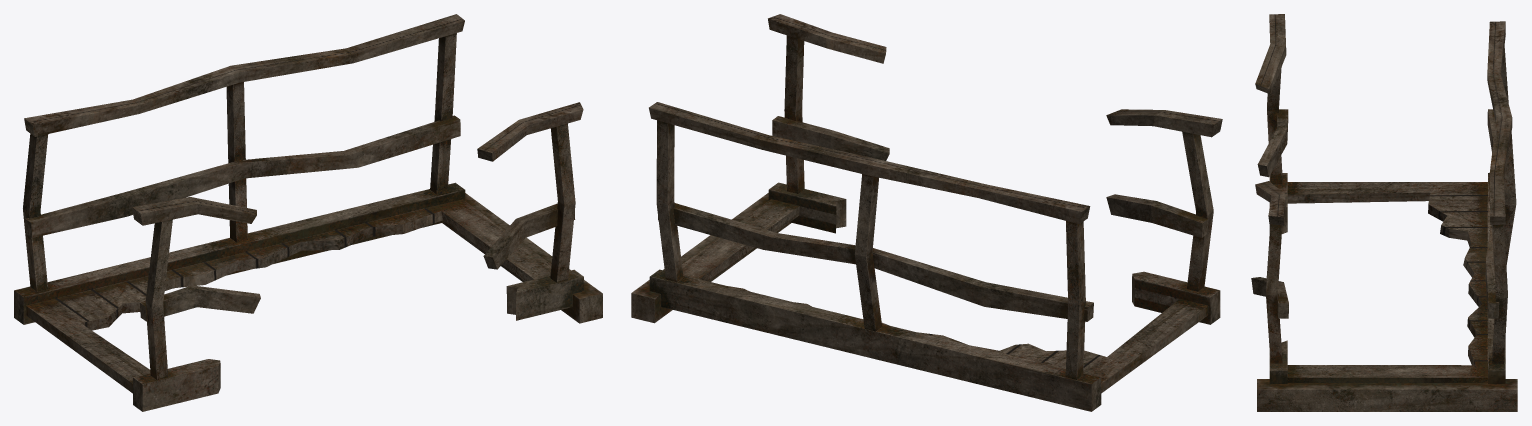
The model's file is forest_wooden_path-bridge_tile_broken_1.glb.
The picture shows the model from 3 angles, left to right: view 1: azimuth 30°, elevation 25°; view 2: azimuth 150°, elevation 25°; view 3: azimuth 270°, elevation 25°; orthographic projection. The views are drawn at different scales.
Visible parts, largest first — view 1: Cube.006; view 2: Cube.006; view 3: Cube.006.
Part boxes in pixels (x1,y1,x2,y2): Cube.006: [14, 14, 602, 411]; Cube.006: [631, 14, 1222, 411]; Cube.006: [1251, 14, 1517, 411].
Bounding box in the file's own units: 2.07 × 0.9132 × 1.14.
Materials: 1 (1 with a texture image).
